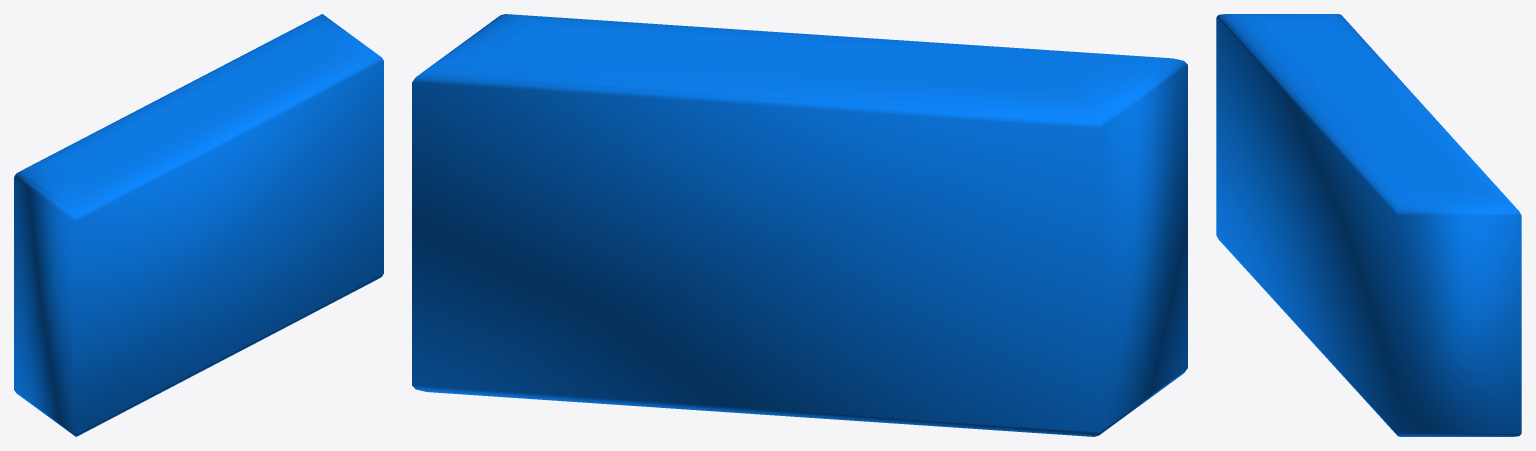
The model's file is b1 fathah.fbx.
The picture shows the model from 3 angles, left to right: view 1: azimuth 30°, elevation 25°; view 2: azimuth 150°, elevation 25°; view 3: azimuth 270°, elevation 25°; orthographic projection. The views are drawn at different scales.
Parts seen in each view (by area): view 1: Text.004; view 2: Text.004; view 3: Text.004.
Boxes of the visible parts, bbox=[...] form: Text.004: bbox=[14, 14, 383, 436]; Text.004: bbox=[412, 14, 1187, 436]; Text.004: bbox=[1216, 14, 1521, 436].
Size of the model in its own units: 38.96 by 22 by 25.36.
